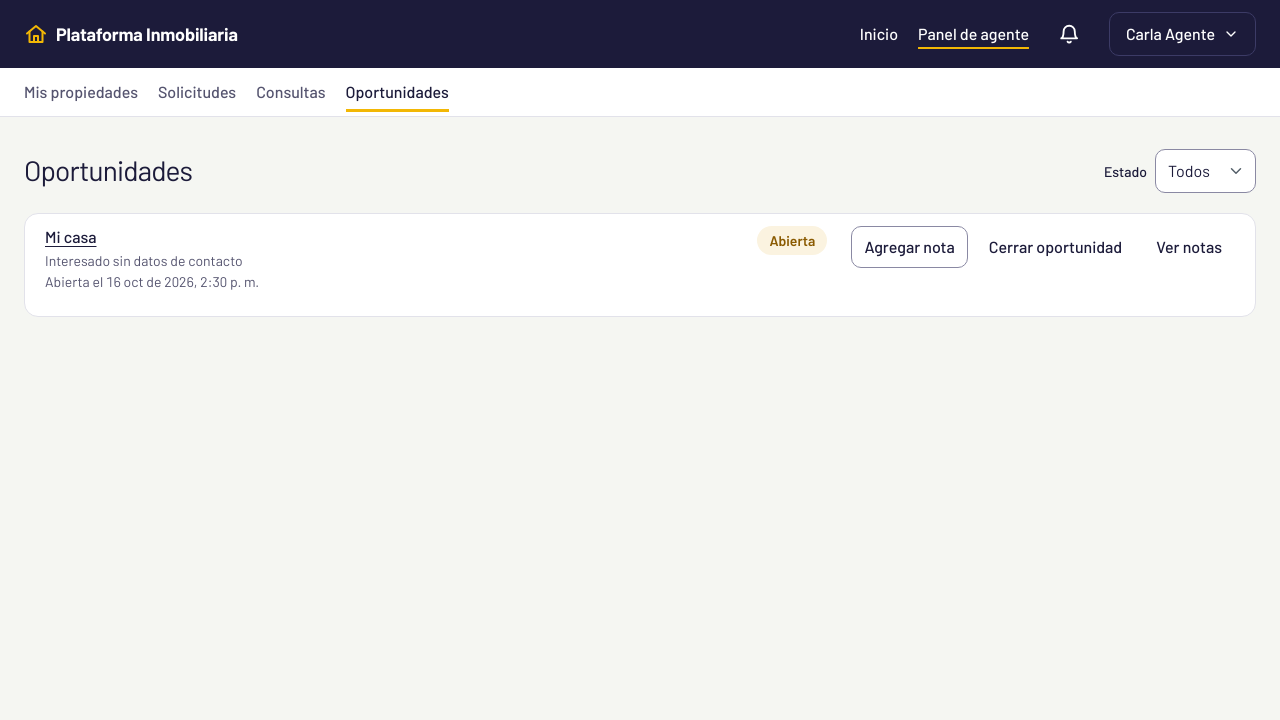
Test: AgentLeadsPage › records a follow-up note and confirms it was saved
This screenshot has width=1280, height=720.
Click the button "Agregar nota" at (910, 247), box [851,226,968,268]
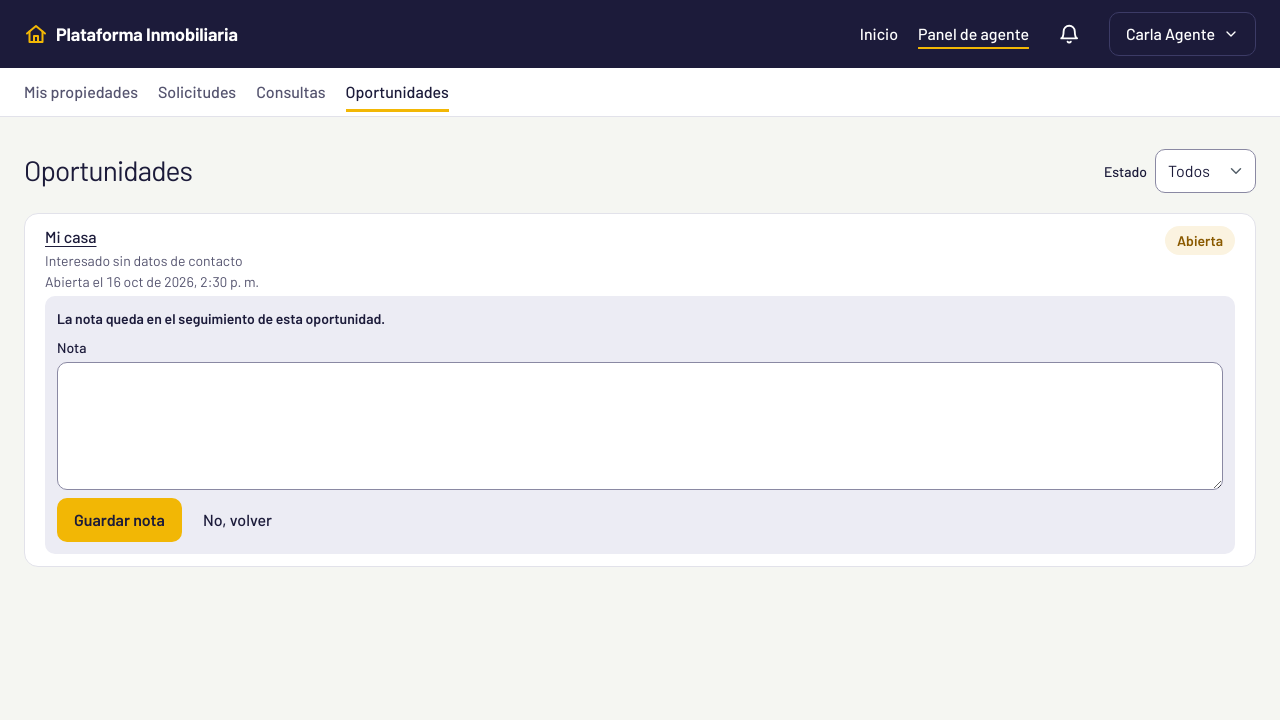
Type "  Pidió más detalles  " into the text box labelled "Nota" at (640, 426), box [57,362,1223,490]
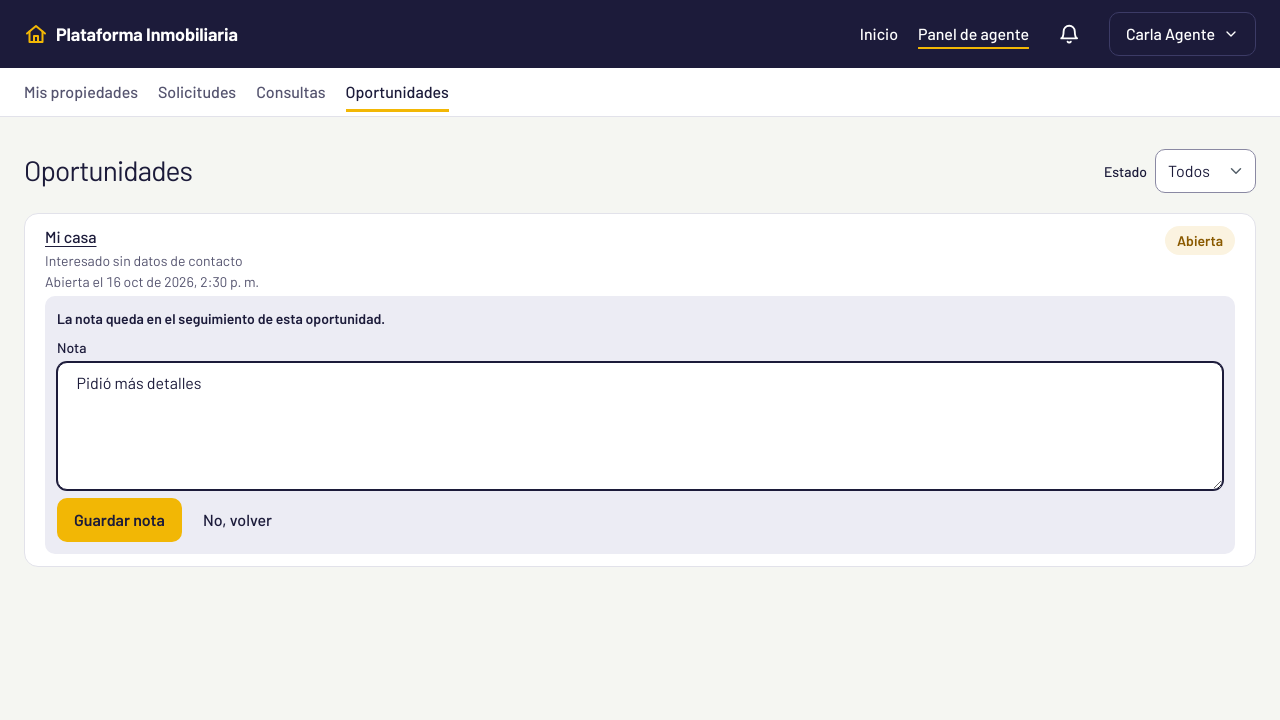
Click the button "Guardar nota" at (119, 520), box [57,498,182,542]
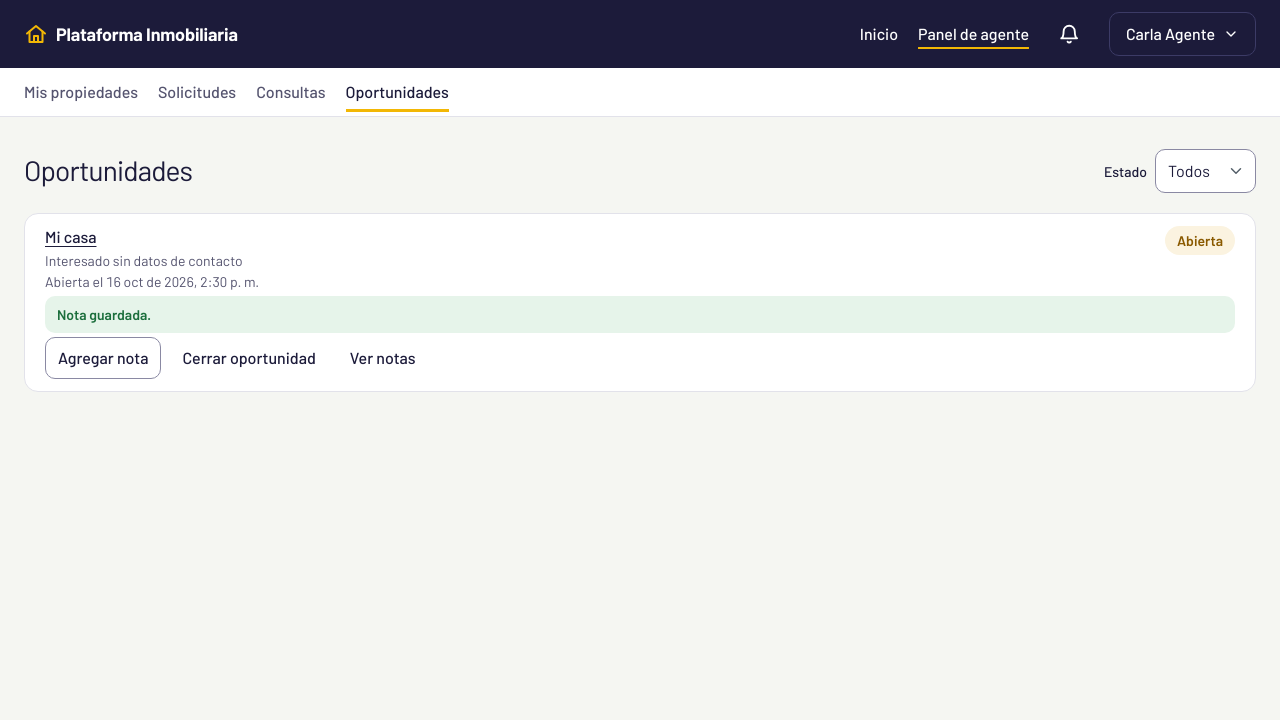
Expected: the text "Nota guardada." is shown, [45,296,1235,333]
